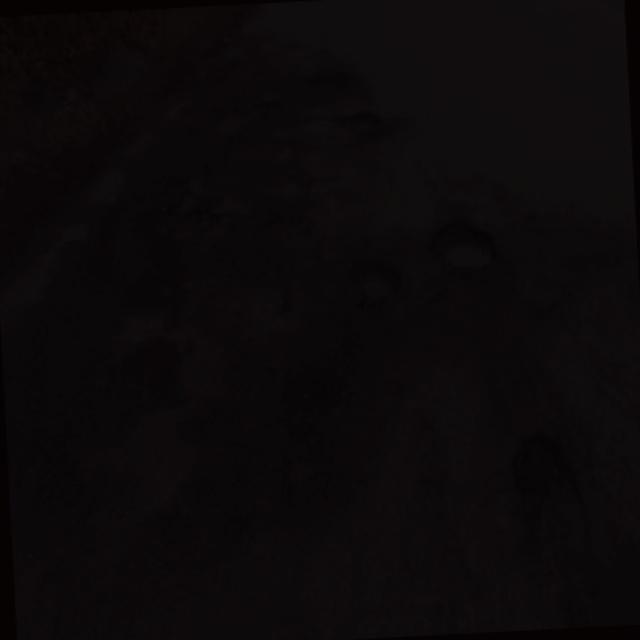Pothole: (160, 154, 312, 256), (280, 357, 382, 503), (507, 426, 597, 562), (425, 210, 511, 283), (116, 342, 203, 402), (335, 257, 412, 308), (335, 109, 395, 143), (296, 75, 366, 103)
